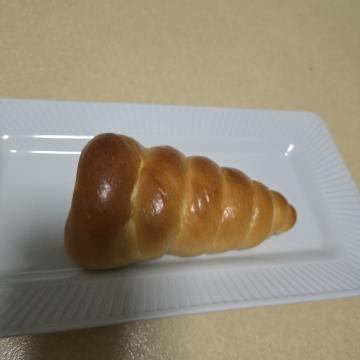cream horn: (120, 52, 292, 314)
